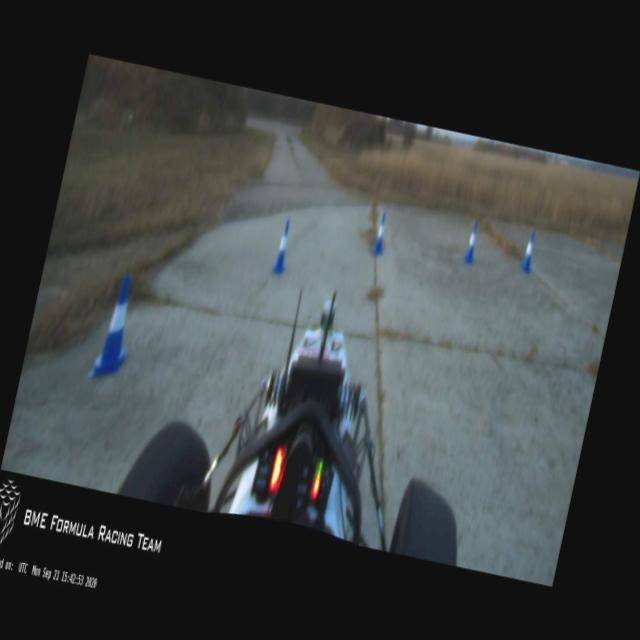blue_cone: (86, 270, 143, 390), (270, 219, 294, 276), (518, 230, 539, 276), (461, 222, 481, 266), (372, 212, 391, 256)
